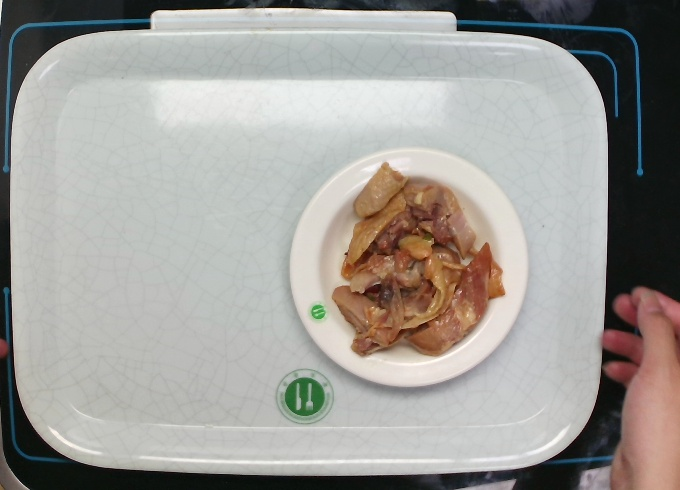WCQzf-Kuan_Bian_Yuan_Die: (288, 141, 532, 395)
